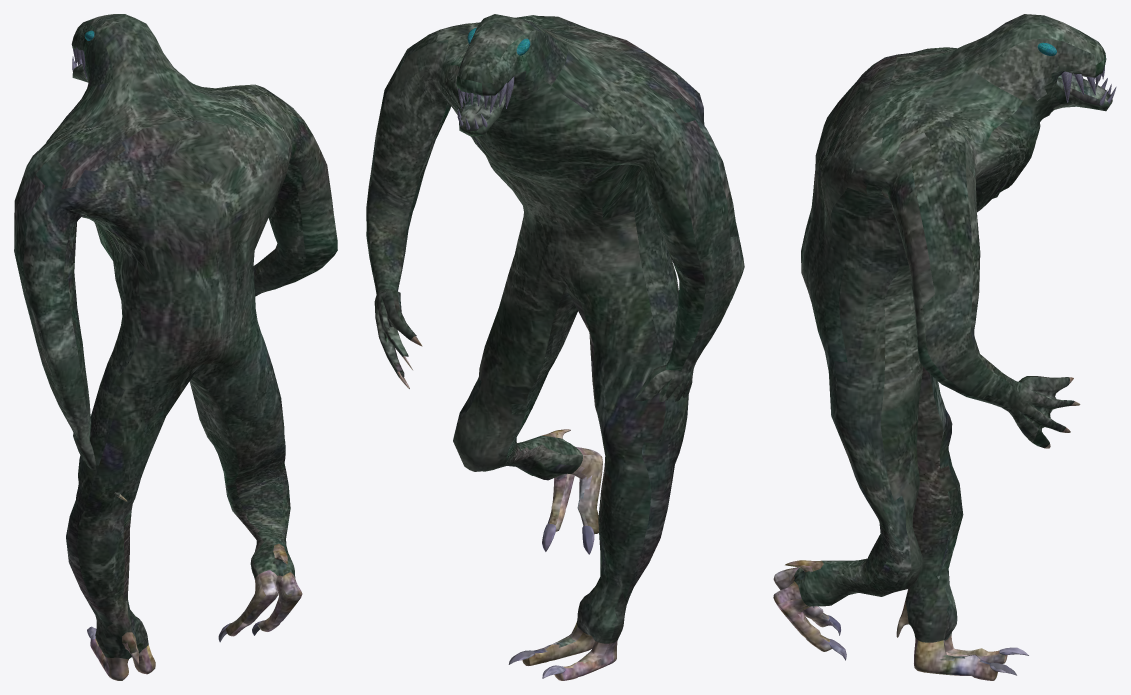
File: Andar.0010.obj
3 renders of one model, left to right at view 1: azimuth 30°, elevation 25°; view 2: azimuth 150°, elevation 25°; view 3: azimuth 270°, elevation 25°, orthographic. The views are drawn at different scales.
Parts seen in each view (by area): view 1: polySurface28; view 2: polySurface28; view 3: polySurface28.
Boxes of the visible parts, box(x1,y1,x2,y2) form: polySurface28: box(14, 14, 337, 680); polySurface28: box(366, 14, 744, 680); polySurface28: box(773, 14, 1116, 680).
Size of the model in its own units: 1.25 by 2.31 by 1.08.
Materials: 4 (4 with a texture image).
